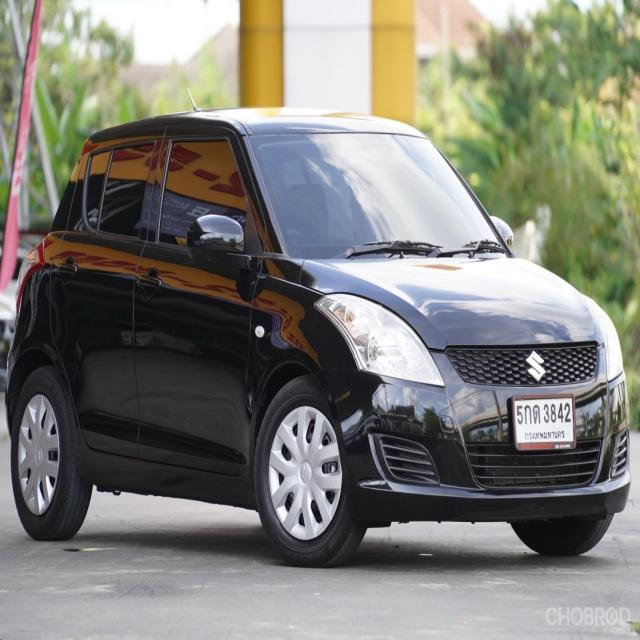license_plate: (514, 393, 575, 448)
